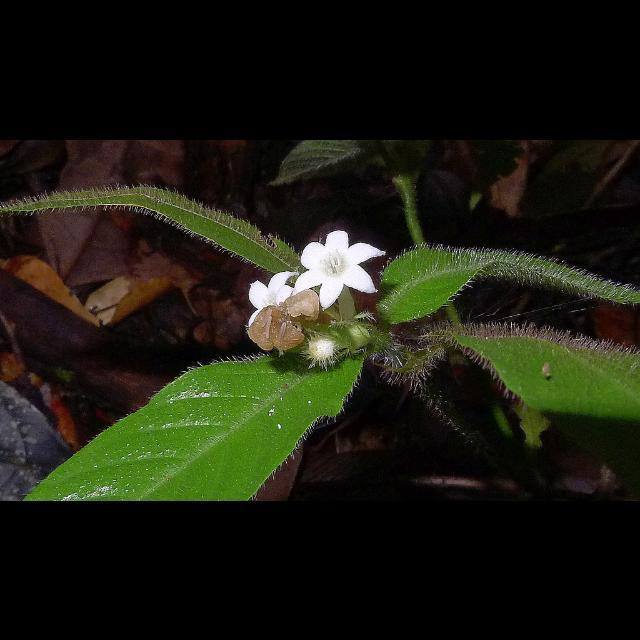Flower: (296, 226, 382, 304), (248, 270, 298, 328)
